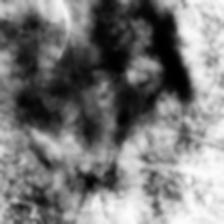Potentially Malignant Skin Tumors: (18, 0, 186, 191)
